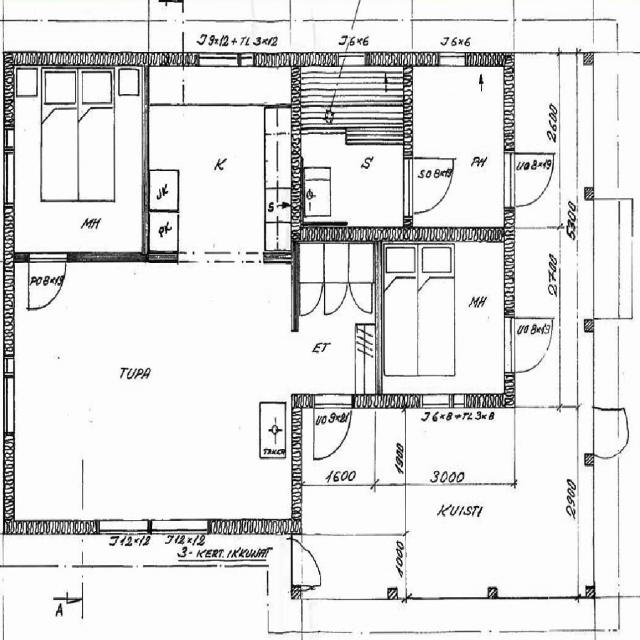door: (504, 316, 553, 372), (313, 393, 351, 462), (404, 158, 451, 212), (504, 153, 551, 206), (29, 252, 66, 315), (292, 540, 334, 585)
